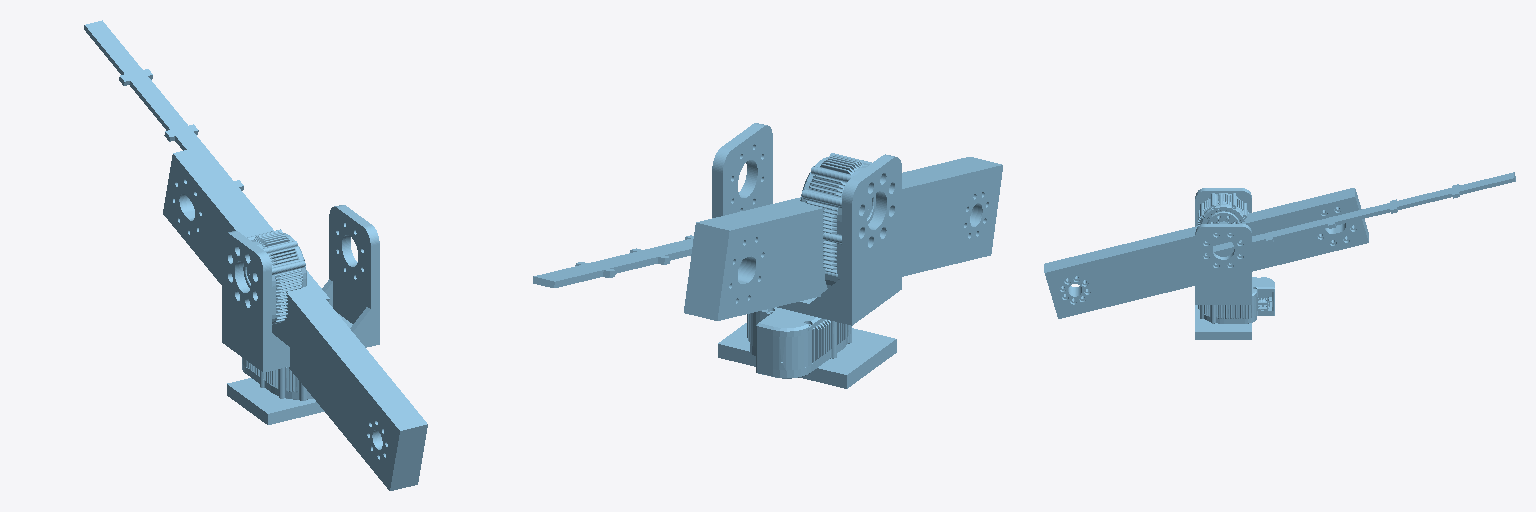
robot.urdf — 134:
<?xml version="1.0" ?>
<robot name="134">

  <!-- ================= -->
  <!-- Link: base_plate   -->
  <!-- ================= -->
  <link name="base_plate">
    <inertial>
      <origin xyz="0 0 0" rpy="0 0 0"/>
      <mass value="1e-09"/>
      <inertia ixx="1e-09" ixy="0" ixz="0" iyy="1e-09" iyz="0" izz="1e-09"/>
    </inertial>

    <!-- base plate mesh -->
    <visual>
      <origin xyz="0 0 0" rpy="0 0 0"/>
      <geometry>
        <mesh filename="package://chad/meshes/base_plate.stl"/>
      </geometry>
      <material name="base_plate_material">
        <color rgba="0.615686 0.811765 0.929412 1"/>
      </material>
    </visual>
    <collision>
      <origin xyz="0 0 0" rpy="0 0 0"/>
      <geometry>
        <mesh filename="package://chad/meshes/base_plate.stl"/>
      </geometry>
    </collision>

    <!-- x8 motor on base -->
    <visual>
      <origin xyz="0 0 0.0353" rpy="-1.5708 0 1.5708"/>
      <geometry>
        <mesh filename="package://chad/meshes/x8.stl"/>
      </geometry>
      <material name="x8_base_material">
        <color rgba="0.615686 0.811765 0.929412 1"/>
      </material>
    </visual>
    <collision>
      <origin xyz="0 0 0.0353" rpy="-1.5708 0 1.5708"/>
      <geometry>
        <mesh filename="package://chad/meshes/x8.stl"/>
      </geometry>
    </collision>
  </link>

  <!-- ============== -->
  <!-- Link: part_1    -->
  <!-- ============== -->
  <link name="part_1">
    <inertial>
      <origin xyz="0 0 0" rpy="0 0 0"/>
      <mass value="1e-09"/>
      <inertia ixx="1e-09" ixy="0" ixz="0" iyy="1e-09" iyz="0" izz="1e-09"/>
    </inertial>

    <visual>
      <origin xyz="0 0 -0.01" rpy="0 0 0"/>
      <geometry>
        <mesh filename="package://chad/meshes/part_1.stl"/>
      </geometry>
      <material name="part_1_material">
        <color rgba="0.615686 0.811765 0.929412 1"/>
      </material>
    </visual>
    <collision>
      <origin xyz="0 0 -0.01" rpy="0 0 0"/>
      <geometry>
        <mesh filename="package://chad/meshes/part_1.stl"/>
      </geometry>
    </collision>

    <!-- x8 motor at shoulder -->
    <visual>
      <origin xyz="-0.032 0 -0.086" rpy="1.5708 -1.5708 0"/>
      <geometry>
        <mesh filename="package://chad/meshes/x8.stl"/>
      </geometry>
      <material name="x8_shoulder_material">
        <color rgba="0.615686 0.811765 0.929412 1"/>
      </material>
    </visual>
    <collision>
      <origin xyz="-0.032 0 -0.086" rpy="1.5708 -1.5708 0"/>
      <geometry>
        <mesh filename="package://chad/meshes/x8.stl"/>
      </geometry>
    </collision>
  </link>

  <!-- ================= -->
  <!-- Link: part_1_2     -->
  <!-- (upper arm only)  -->
  <!-- ================= -->
  <link name="part_1_2">
    <inertial>
      <origin xyz="0 0 0" rpy="0 0 0"/>
      <mass value="1e-09"/>
      <inertia ixx="1e-09" ixy="0" ixz="0" iyy="1e-09" iyz="0" izz="1e-09"/>
    </inertial>

    <!-- upper arm mesh -->
    <visual>
      <origin xyz="0.0453486 0.0239741 -0.0057" rpy="-1.5708 0 -1.83541"/>
      <geometry>
        <mesh filename="package://chad/meshes/part_1__2.stl"/>
      </geometry>
      <material name="upper_arm_material">
        <color rgba="0.615686 0.811765 0.929412 1"/>
      </material>
    </visual>
    <collision>
      <origin xyz="0.0453486 0.0239741 -0.0057" rpy="-1.5708 0 -1.83541"/>
      <geometry>
        <mesh filename="package://chad/meshes/part_1__2.stl"/>
      </geometry>
    </collision>
  </link>

  <!-- ================= -->
  <!-- Link: forearm      -->
  <!-- (forearm only)     -->
  <!-- ================= -->
  <link name="forearm">
    <inertial>
      <origin xyz="0 0 0" rpy="0 0 0"/>
      <mass value="1e-09"/>
      <inertia ixx="1e-09" ixy="0" ixz="0" iyy="1e-09" iyz="0" izz="1e-09"/>
    </inertial>

    <!-- forearm mesh (at link origin) -->
    <visual>
      <origin xyz="0 0 0" rpy="0 0 0"/>
      <geometry>
        <mesh filename="package://chad/meshes/part_1__3.stl"/>
      </geometry>
      <material name="forearm_material">
        <color rgba="0.615686 0.811765 0.929412 1"/>
      </material>
    </visual>
    <collision>
      <origin xyz="0 0 0" rpy="0 0 0"/>
      <geometry>
        <mesh filename="package://chad/meshes/part_1__3.stl"/>
      </geometry>
    </collision>
  </link>

  <!-- ================= -->
  <!-- Joints             -->
  <!-- ================= -->

  <!-- Joint: base_plate -> part_1 -->
  <joint name="base" type="revolute">
    <origin xyz="0 0 0.05735" rpy="3.14159 0 0"/>
    <parent link="base_plate"/>
    <child link="part_1"/>
    <axis xyz="0 0 1"/>
    <limit effort="10" velocity="10" lower="-3.14159" upper="3.14159"/>
  </joint>

  <!-- Joint: part_1 -> part_1_2 (shoulder) -->
  <joint name="shoulder" type="revolute">
    <origin xyz="-0.00995 0 -0.086" rpy="0 -1.5708 0"/>
    <parent link="part_1"/>
    <child link="part_1_2"/>
    <axis xyz="0 0 1"/>
    <limit effort="10" velocity="10" lower="-3.14159" upper="3.14159"/>
  </joint>

  <!-- Joint: part_1_2 -> forearm (elbow) -->
  <joint name="elbow" type="revolute">
    <!-- This transform is copied from where the forearm mesh USED to sit inside part_1_2 -->
    <origin xyz="-0.0239341 -0.193475 -0.016" rpy="0 0 -1.83541"/>
    <parent link="part_1_2"/>
    <child link="forearm"/>
    <!-- axis guess; if it bends wrong, change to 1 0 0 or 0 1 0 -->
    <axis xyz="0 0 1"/>
    <limit effort="10" velocity="10" lower="-3.14159" upper="3.14159"/>
  </joint>

</robot>

--- What the picture shows (computed from the rendered views, not written in the file) ---
The picture shows the robot from 3 angles, left to right: view 1: azimuth 30°, elevation 25°; view 2: azimuth 150°, elevation 25°; view 3: azimuth 270°, elevation 25°; orthographic projection.
Model 134 with 4 links and 3 joints (3 revolute), rooted at base_plate, posed all joints at 0.
Visible links, largest first — view 1: part_1_2, part_1, forearm, base_plate; view 2: part_1_2, part_1, base_plate, forearm; view 3: part_1_2, part_1, base_plate, forearm.
Link boxes in pixels (box(x1,y1,x2,y2)): part_1_2: box(163, 146, 427, 490); part_1: box(222, 205, 379, 372); forearm: box(84, 20, 329, 301); base_plate: box(227, 358, 324, 424); part_1_2: box(684, 157, 1002, 320); part_1: box(712, 123, 901, 325); base_plate: box(718, 307, 896, 388); forearm: box(533, 235, 693, 287); part_1_2: box(1044, 188, 1368, 318); part_1: box(1195, 188, 1251, 304); base_plate: box(1195, 277, 1274, 339); forearm: box(1205, 172, 1515, 254).
Bounding box of the posed robot: 0.13 × 0.6674 × 0.2324 m (x, y, z).
6 mesh visuals loaded from 5 distinct referenced files (5 binary STL).
